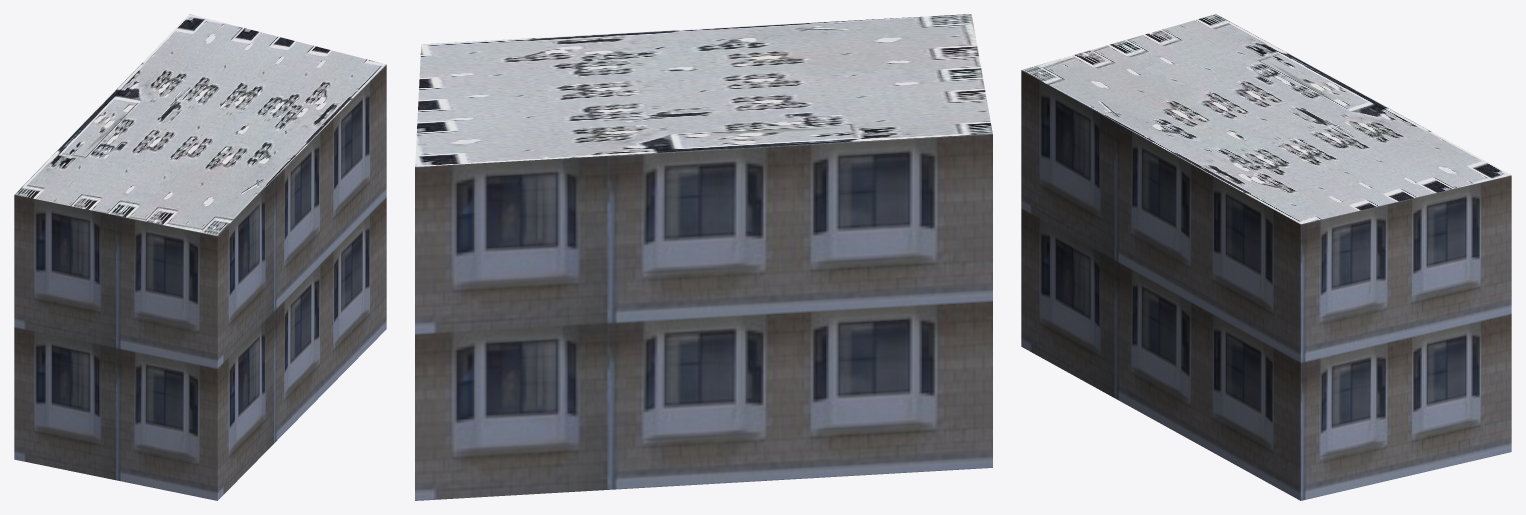
The model's file is ResTex__1.fbx.
The picture shows the model from 3 angles, left to right: view 1: azimuth 30°, elevation 25°; view 2: azimuth 150°, elevation 25°; view 3: azimuth 270°, elevation 25°; orthographic projection. The views are drawn at different scales.
Visible parts, largest first — view 1: CityEngineMaterial_3_m, CityEngineMaterial_2_m; view 2: CityEngineMaterial_3_m, CityEngineMaterial_2_m; view 3: CityEngineMaterial_3_m, CityEngineMaterial_2_m.
Part boxes in pixels (bbox=[...]): CityEngineMaterial_3_m: bbox=[14, 65, 386, 500]; CityEngineMaterial_2_m: bbox=[14, 14, 386, 235]; CityEngineMaterial_3_m: bbox=[415, 134, 992, 500]; CityEngineMaterial_2_m: bbox=[415, 14, 992, 166]; CityEngineMaterial_3_m: bbox=[1021, 70, 1511, 500]; CityEngineMaterial_2_m: bbox=[1022, 14, 1510, 224].
Bounding box in the file's own units: 9.79 × 6 × 9.64.
Materials: 2 (2 with a texture image).
